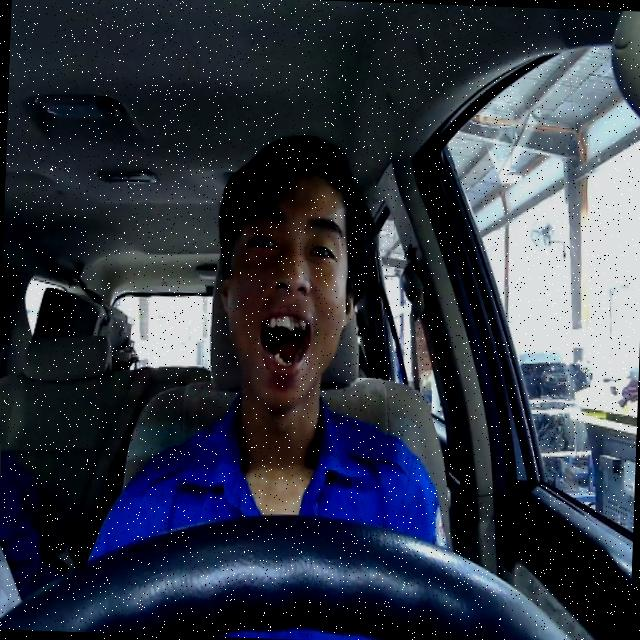yarning: (212, 166, 358, 416)
